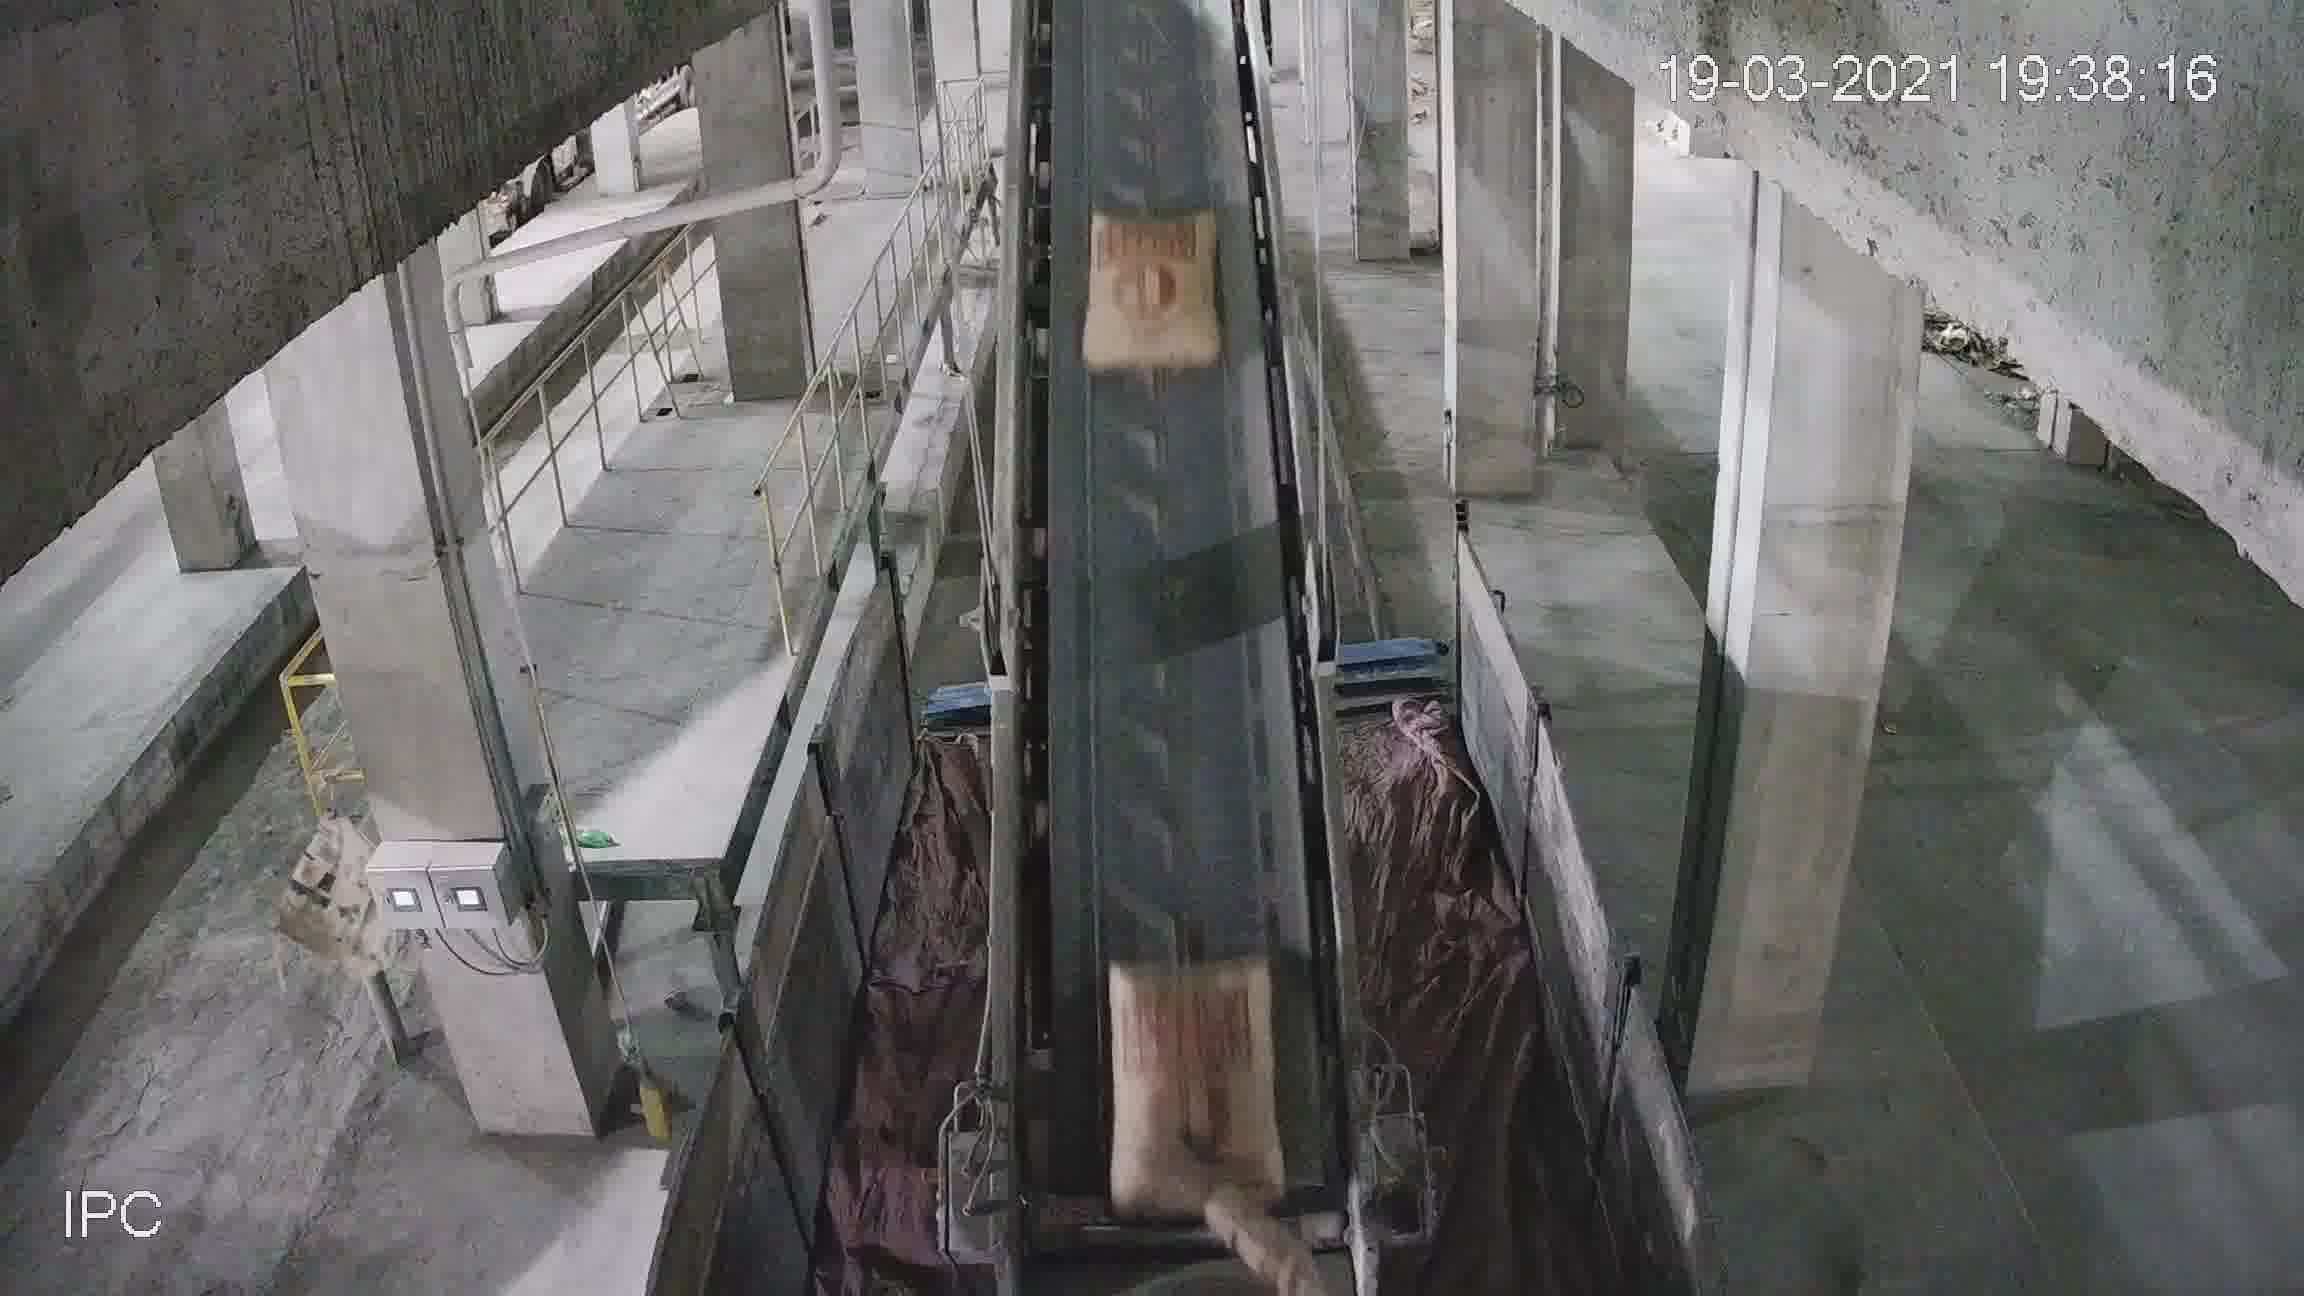bag: (1101, 948, 1261, 1196), (1086, 214, 1218, 377)
belt: (976, 22, 1375, 1225)
